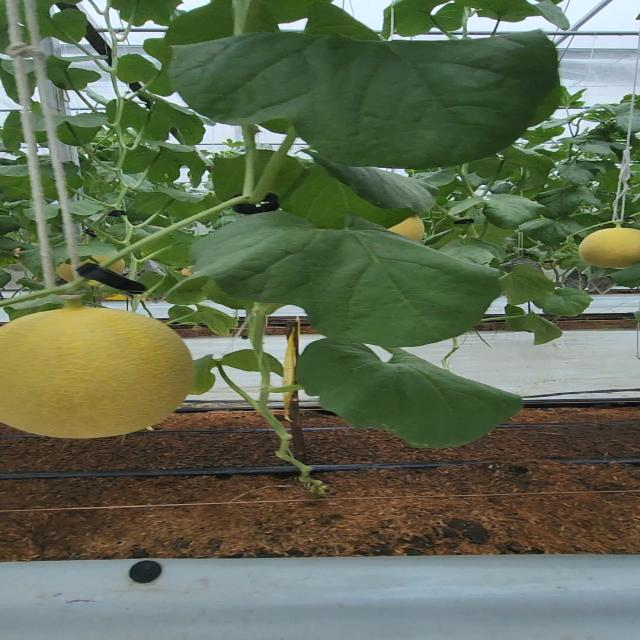Melon: (0, 306, 201, 441)
